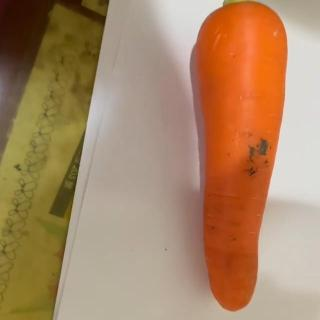carrot: (194, 0, 288, 314)
